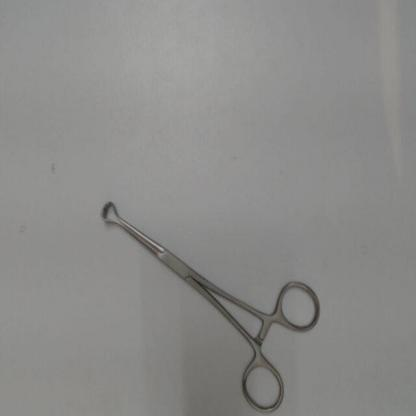Babcock Tissue Forceps: (95, 195, 324, 413)
